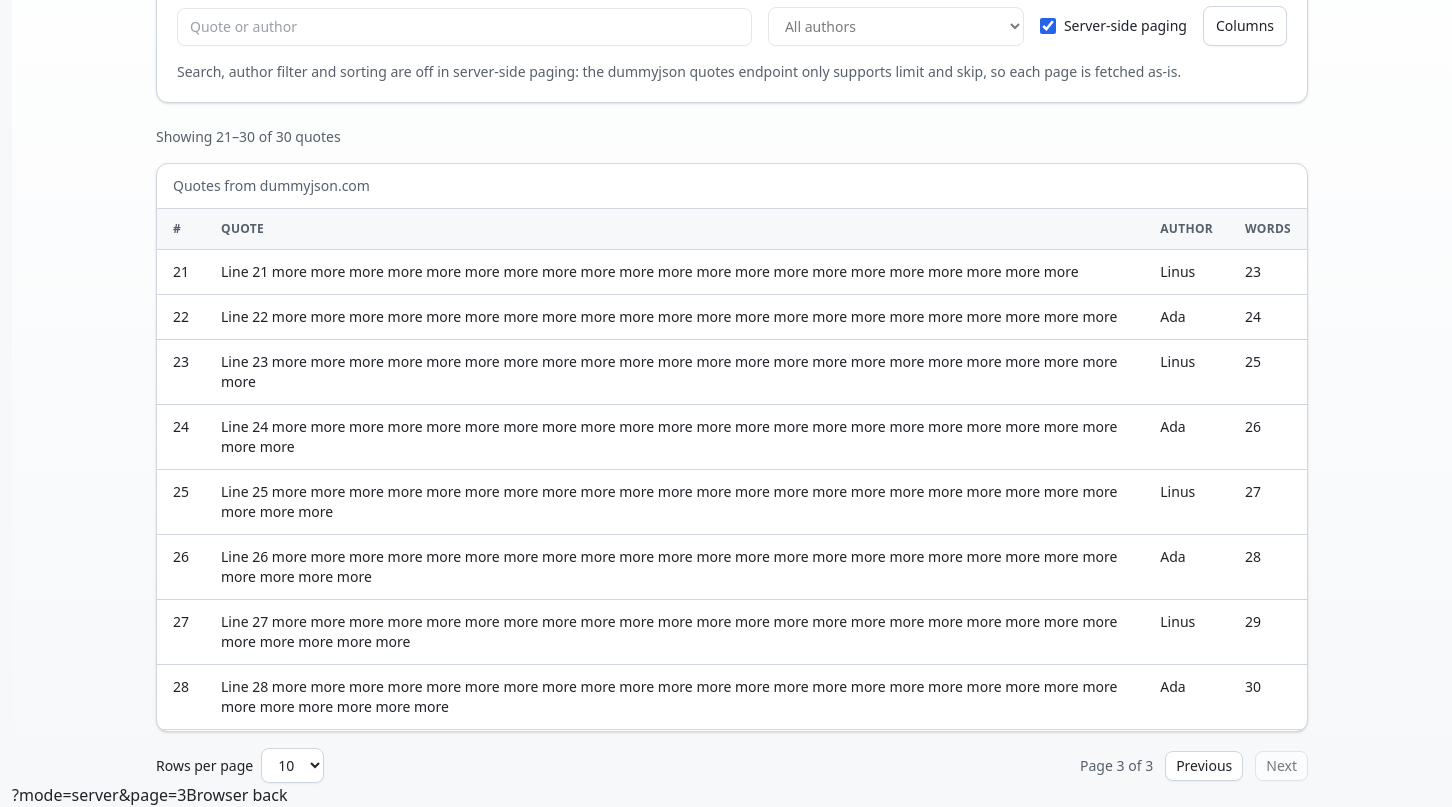
QuotesTablePage in server-side mode › requests the new limit from page 1 when the page size changes
This screenshot has width=1452, height=807.
(page scrolled)
Check: the text "Page 3 of 3" is shown, box top-left (1080, 756), bottom-right (1153, 776)
Select "25" in the dropdown labelled "Rows per page" at {"x": 293, "y": 766}, box top-left (261, 748), bottom-right (324, 783)
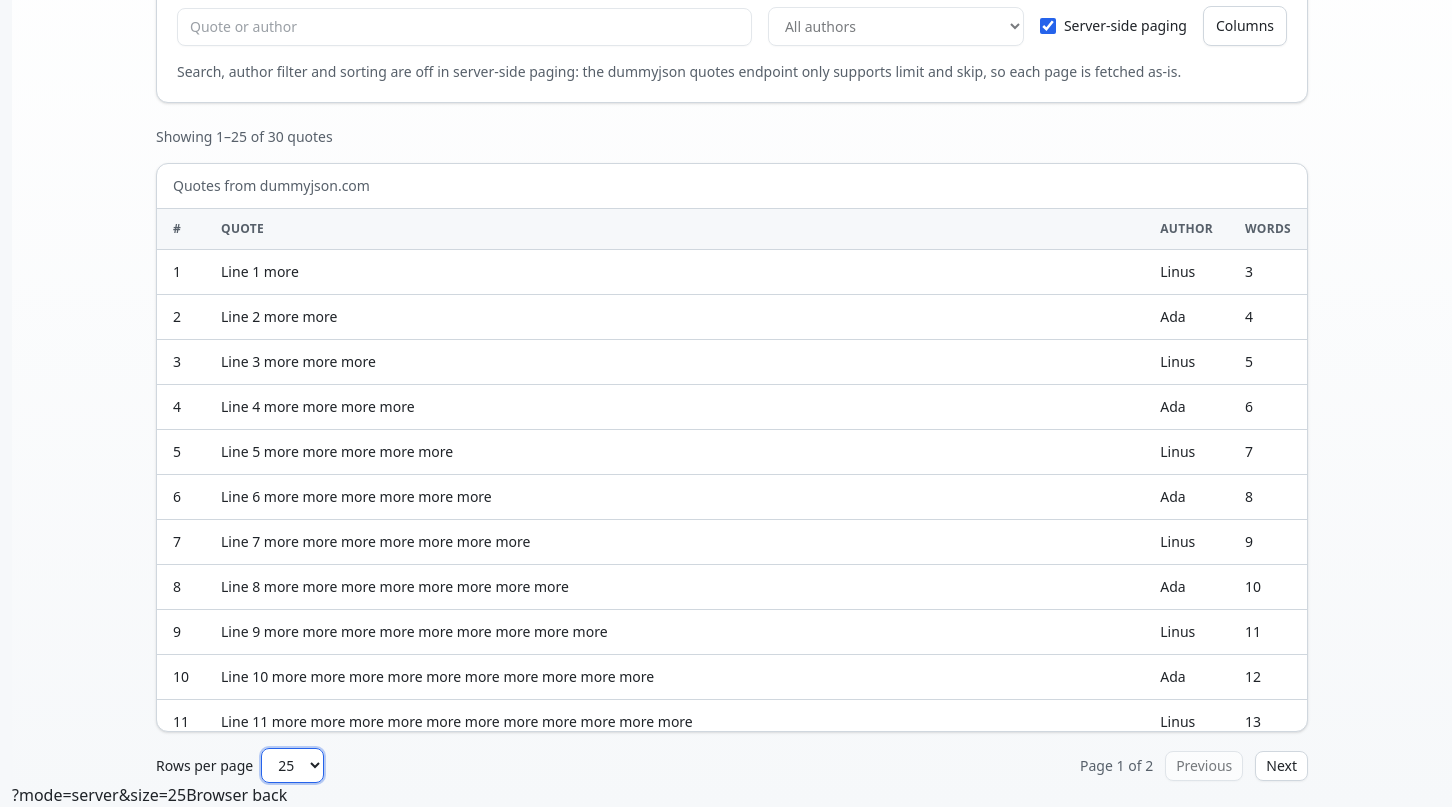
Check: the text named "Current query" reads "?mode=server&size=25", box top-left (12, 784), bottom-right (186, 806)
Check: the text "Page 1 of 2" is shown, box top-left (1080, 756), bottom-right (1153, 776)
